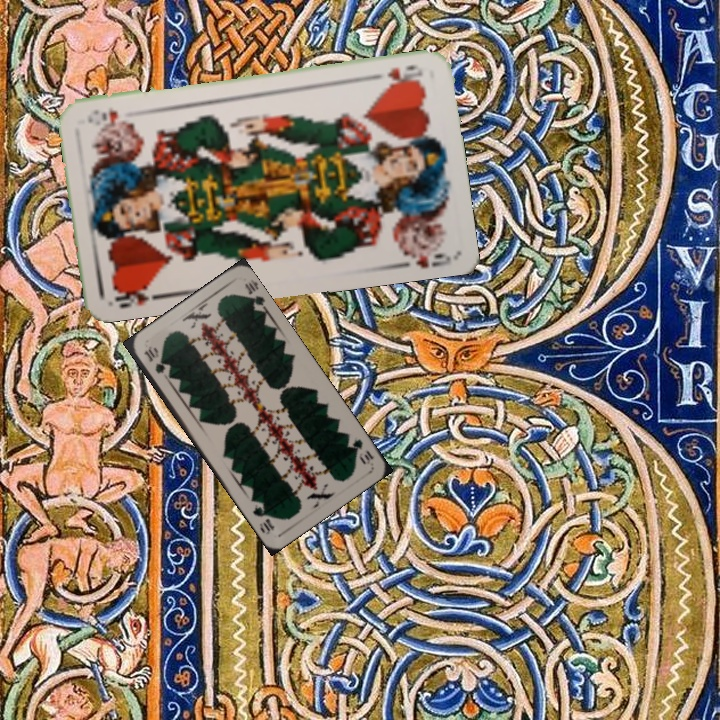G10: (139, 342, 168, 376), (347, 435, 376, 467)
HO: (109, 281, 166, 311), (369, 60, 426, 88)
